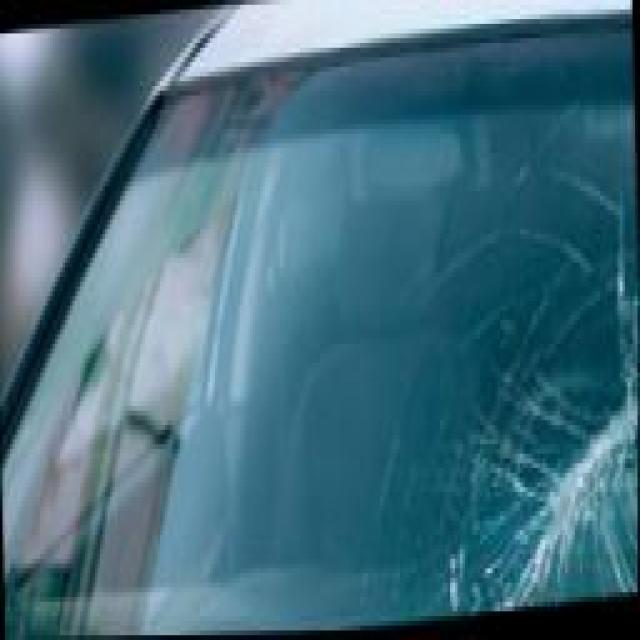Windshield: (321, 15, 639, 633)
